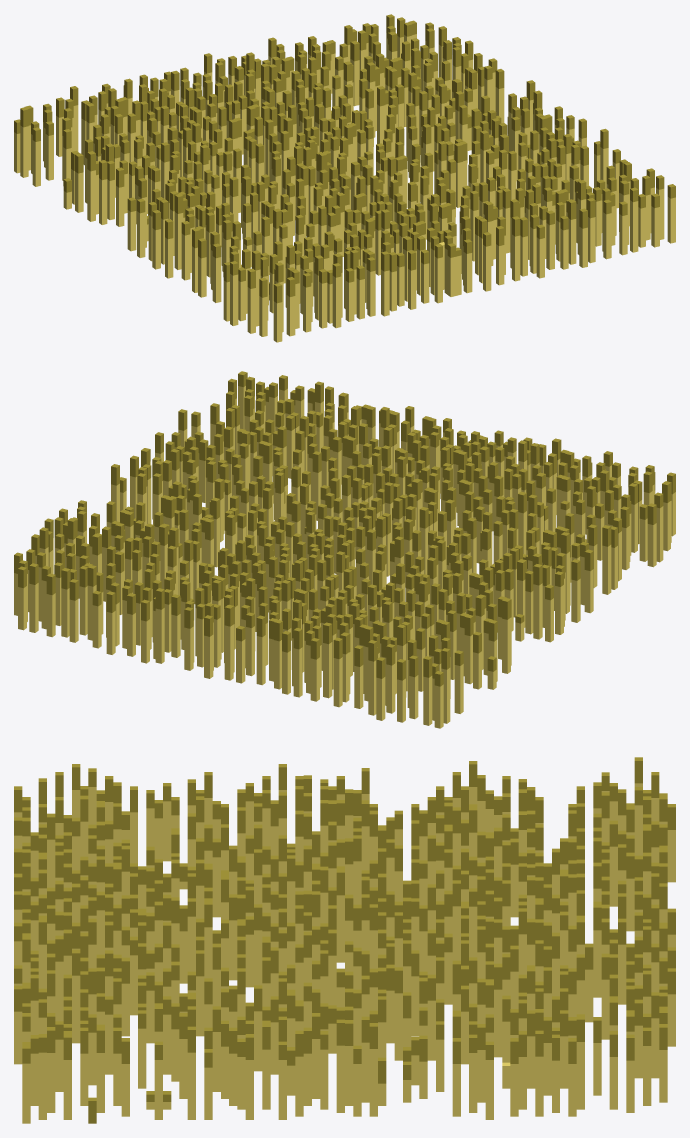
File: wheat_overtile.obj
3 renders of one model, top to bottom at view 1: azimuth 30°, elevation 25°; view 2: azimuth 150°, elevation 25°; view 3: azimuth 270°, elevation 25°, orthographic. The views are drawn at different scales.
Size of the model in its own units: 7.9 by 1.3 by 8.
Materials: 1 (1 with a texture image).
